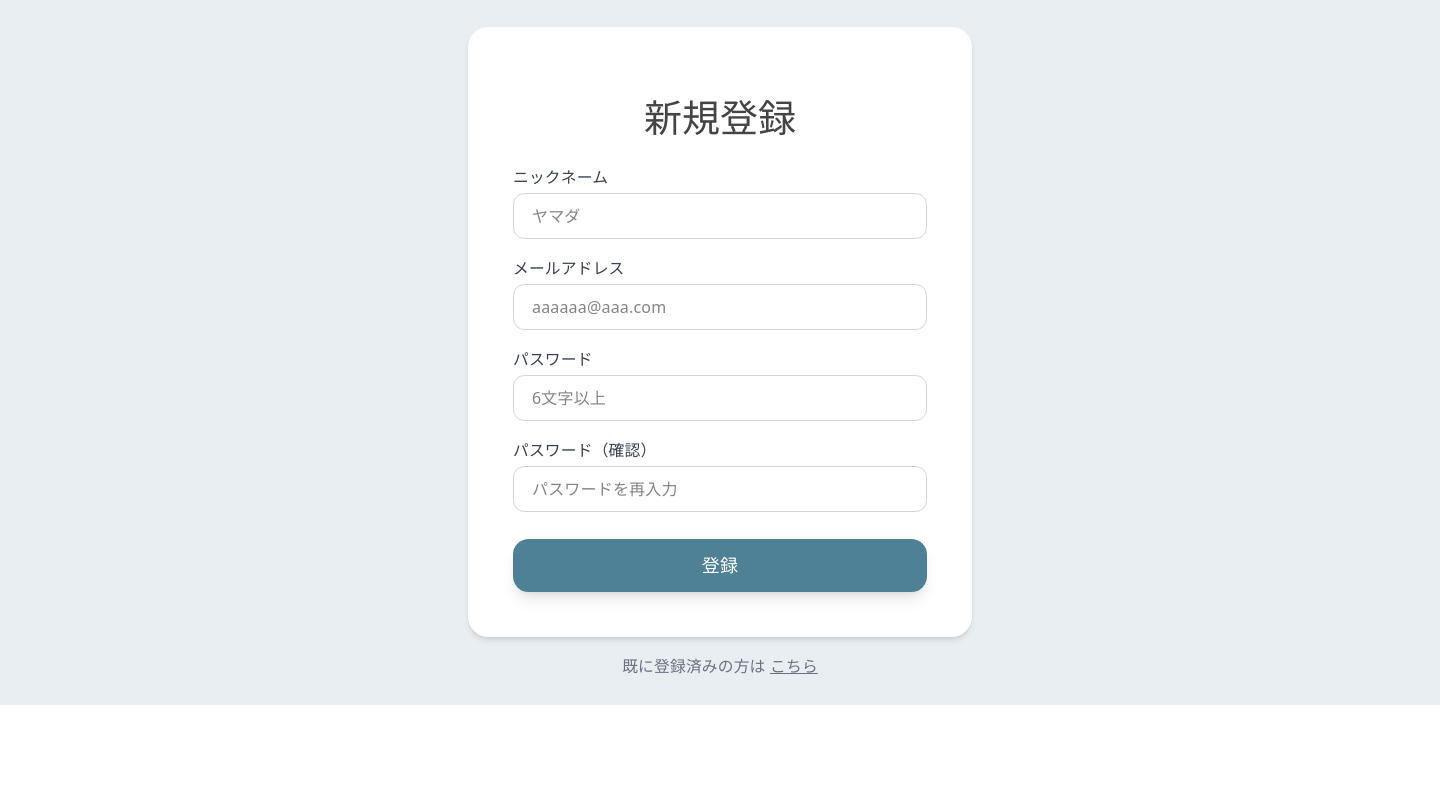
Test case: Register › パスワードが6文字未満の場合エラーメッセージが表示される
Type "テスト太郎" into the field with placeholder "ヤマダ" at (720, 216), box [513,193,927,239]
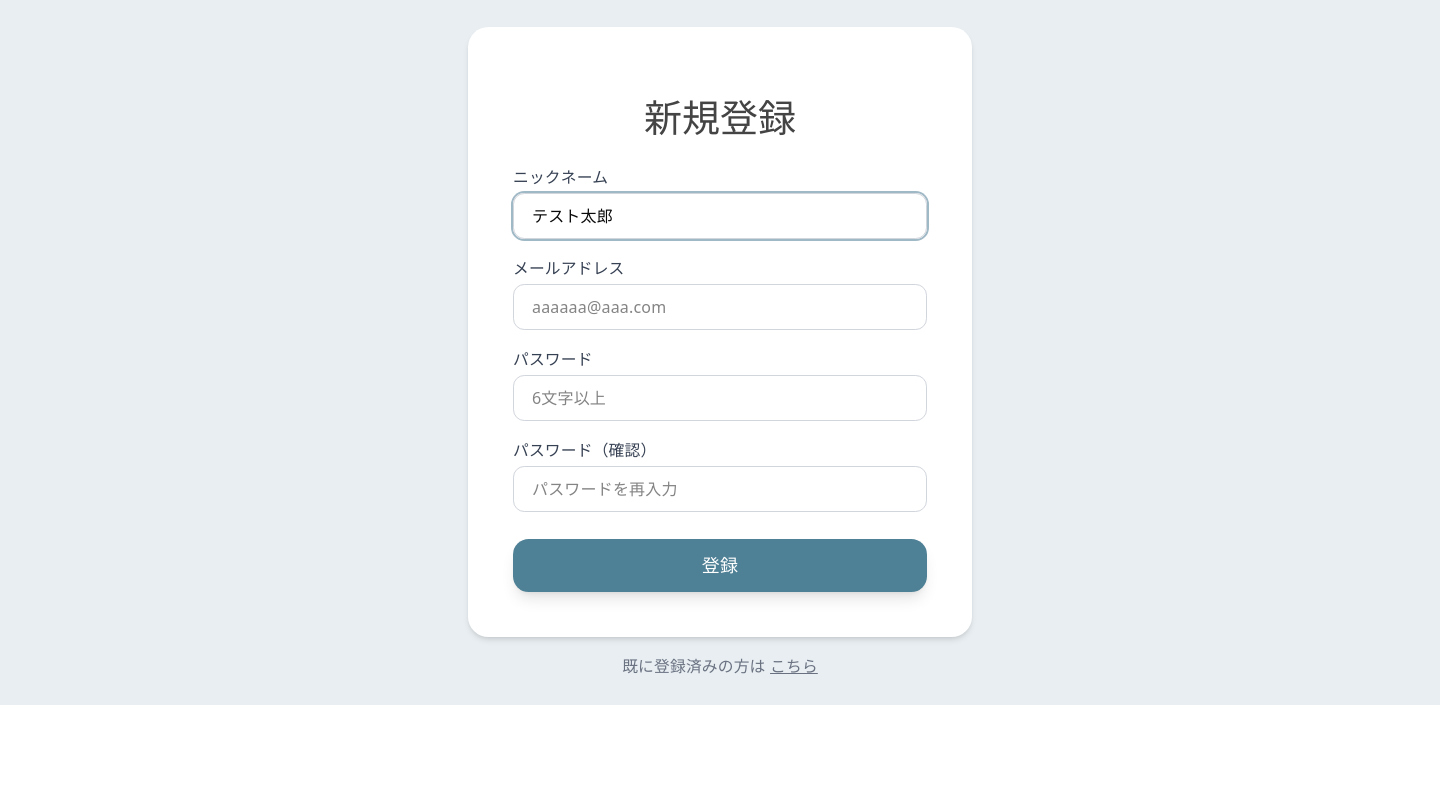
Type "test@example.com" into the field with placeholder "aaaaaa@aaa.com" at (720, 307), box [513,284,927,330]
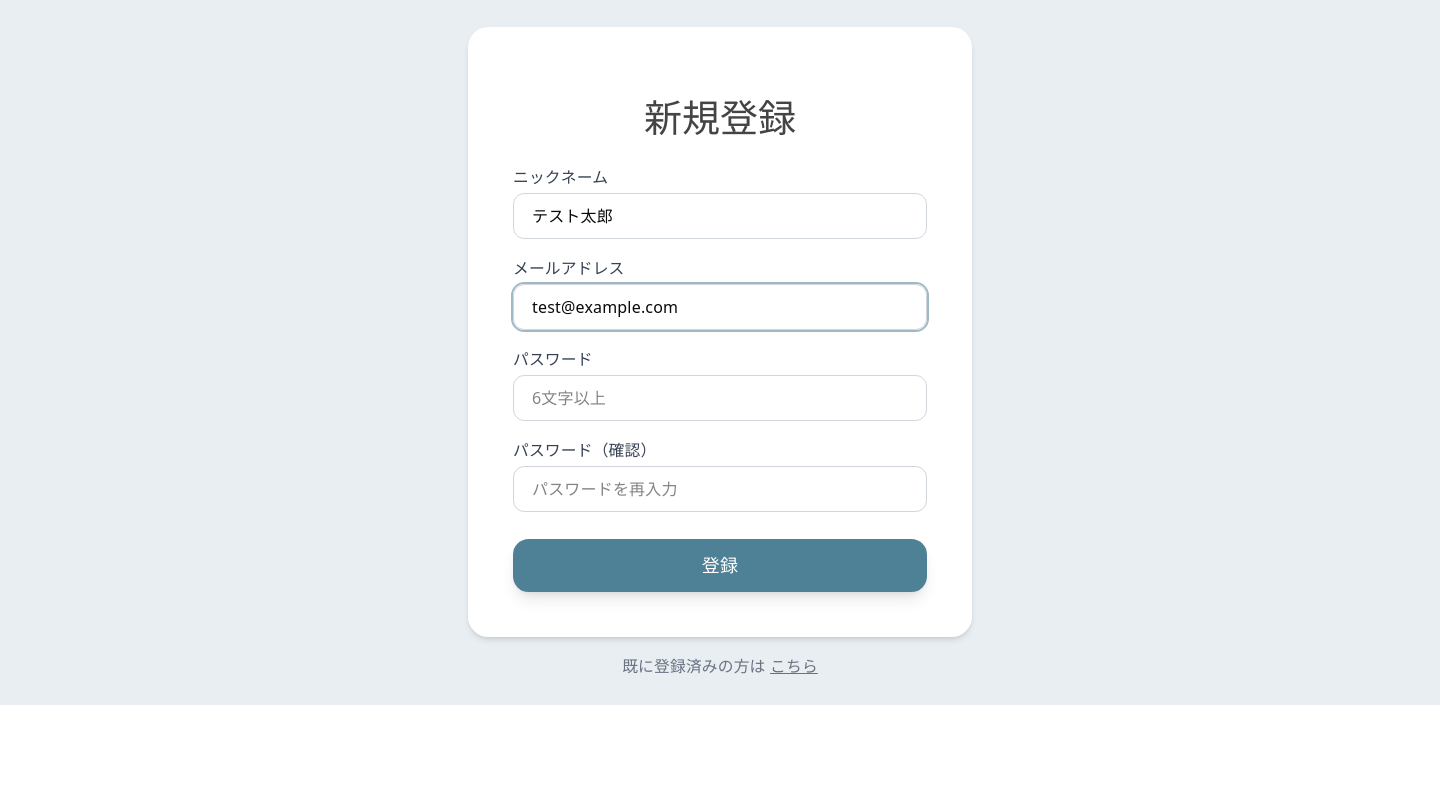
Type "abc" into the password field with placeholder "6文字以上" at (720, 398), box [513,375,927,421]
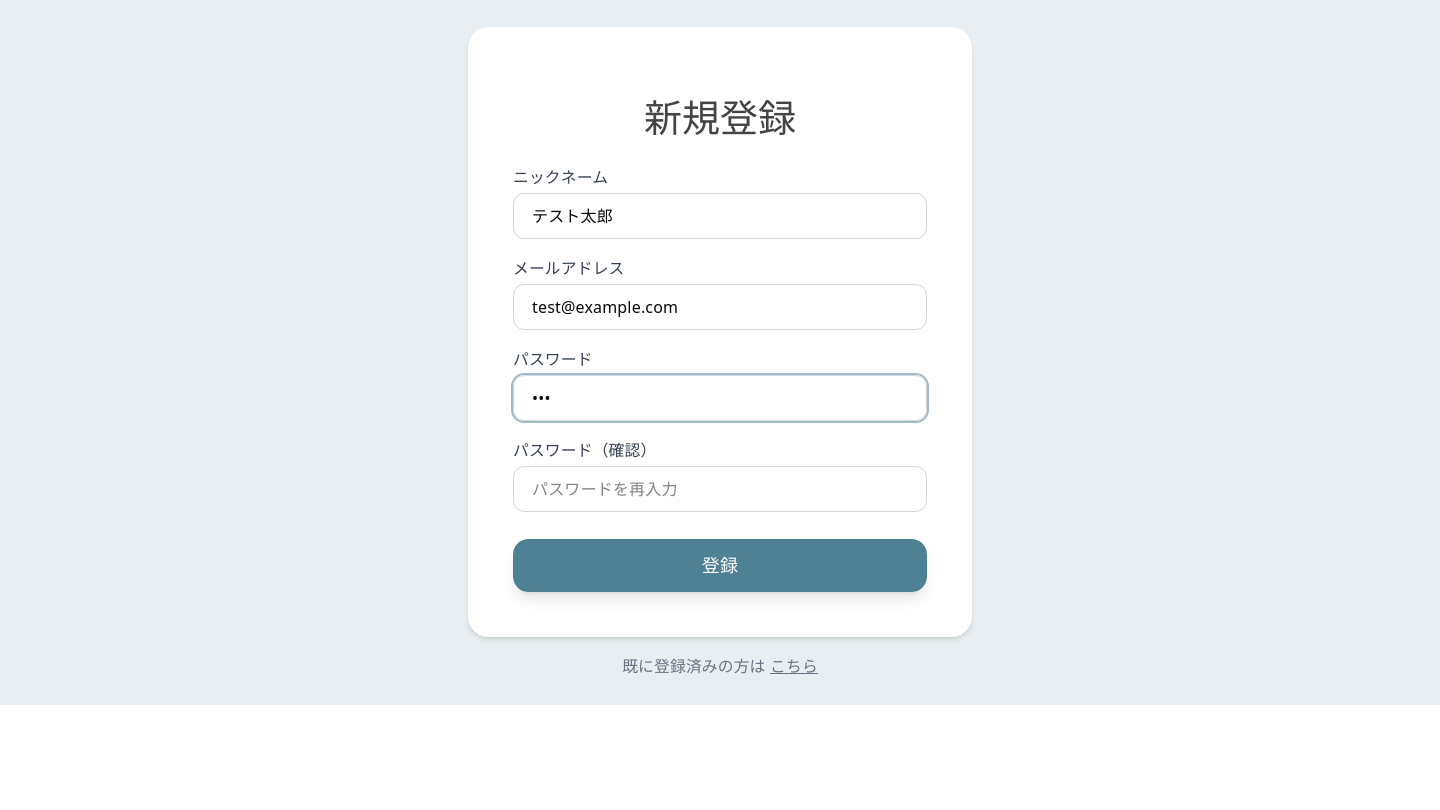
Type "abc" into the password field with placeholder "パスワードを再入力" at (720, 489), box [513,466,927,512]
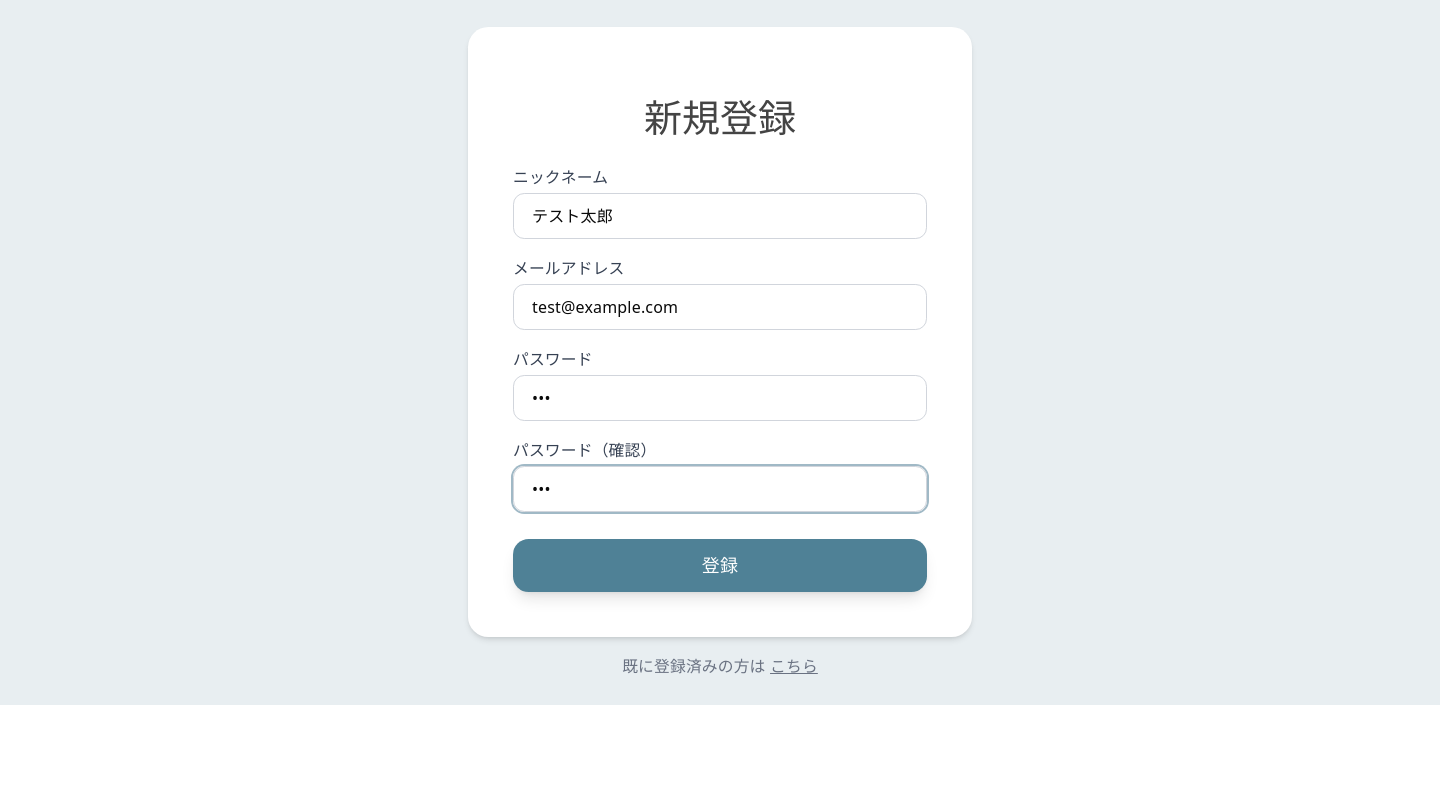
Click the button "登録" at (720, 566), box [513,539,927,592]
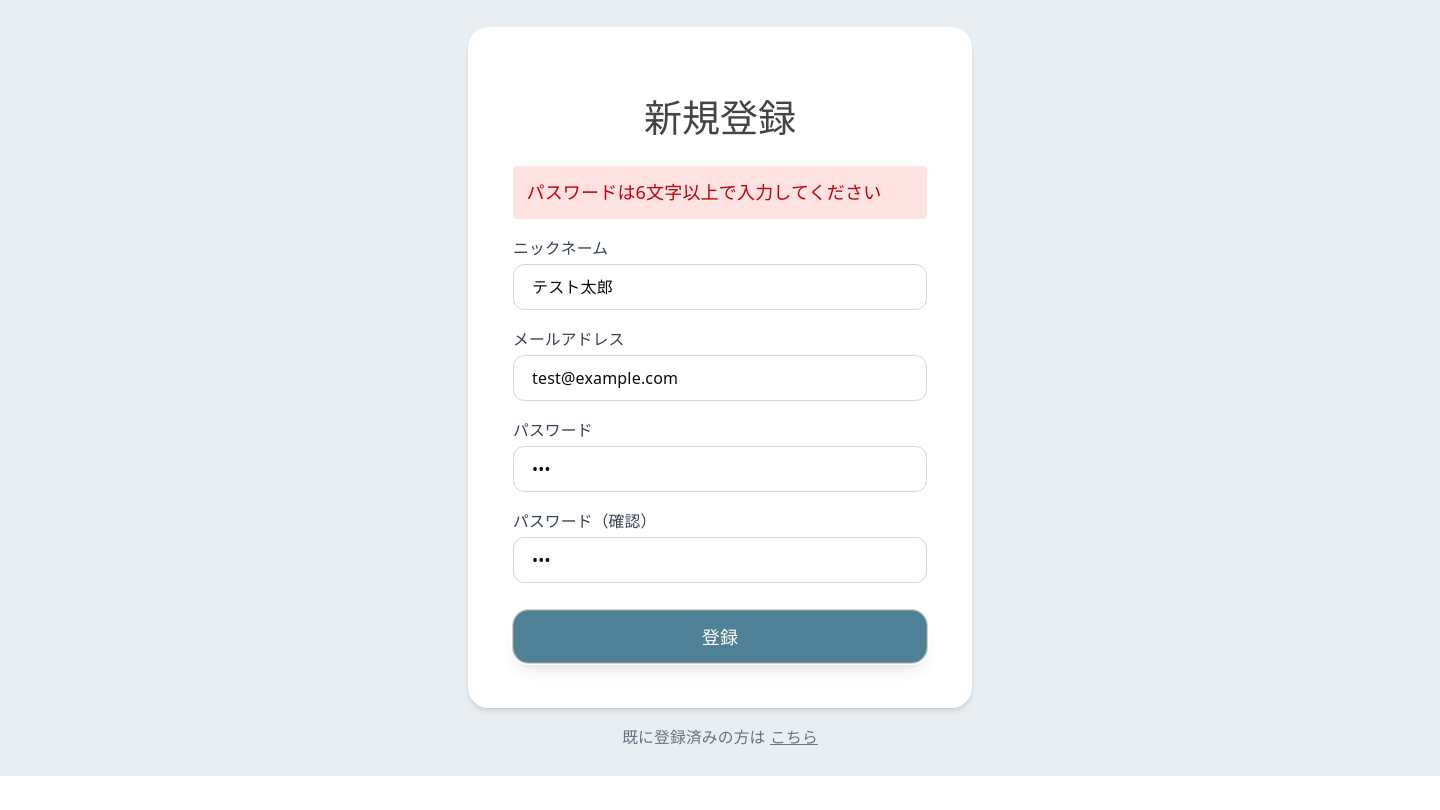
Now the text "パスワードは6文字以上で入力してください" is shown, box [513,166,927,219]
